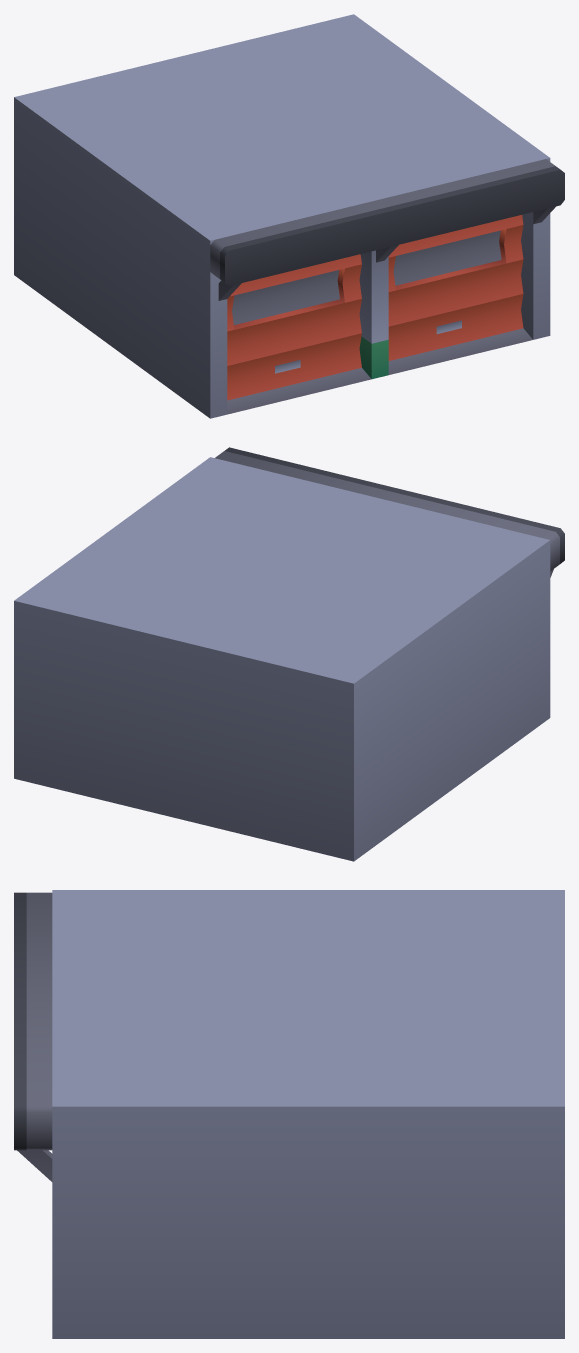
The model's file is garage-red.glb.
3 renders of one model, top to bottom at view 1: azimuth 30°, elevation 25°; view 2: azimuth 150°, elevation 25°; view 3: azimuth 270°, elevation 25°, orthographic. The views are drawn at different scales.
Parts seen in each view (by area): view 1: rk_pitstop-garage-closed; view 2: rk_pitstop-garage-closed; view 3: rk_pitstop-garage-closed.
Boxes of the visible parts, x1,y1,x2,y2 form: rk_pitstop-garage-closed: (14, 14, 564, 418); rk_pitstop-garage-closed: (14, 447, 564, 861); rk_pitstop-garage-closed: (14, 890, 564, 1338).
Size of the model in its own units: 2 by 1 by 2.15.
